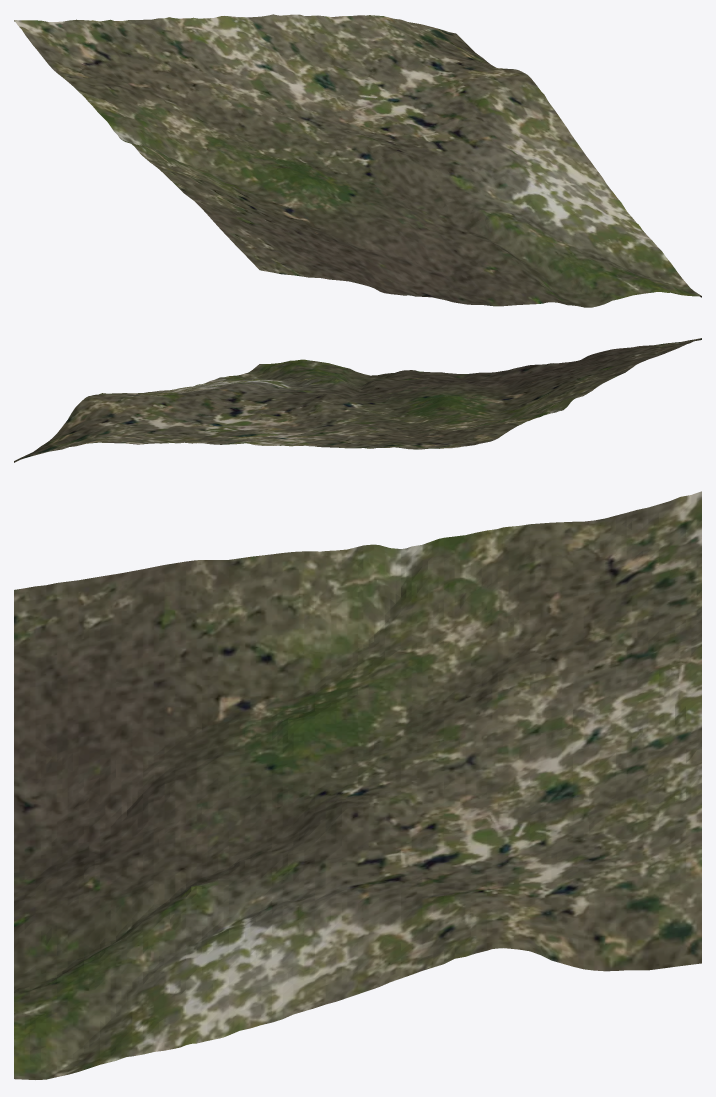
3 views of the same model, one above another, from view 1: azimuth 30°, elevation 25°; view 2: azimuth 150°, elevation 25°; view 3: azimuth 270°, elevation 25° (orthographic). The views are drawn at different scales.
Size of the model in its own units: 250 by 112 by 241.
1 material, 1 textured.
